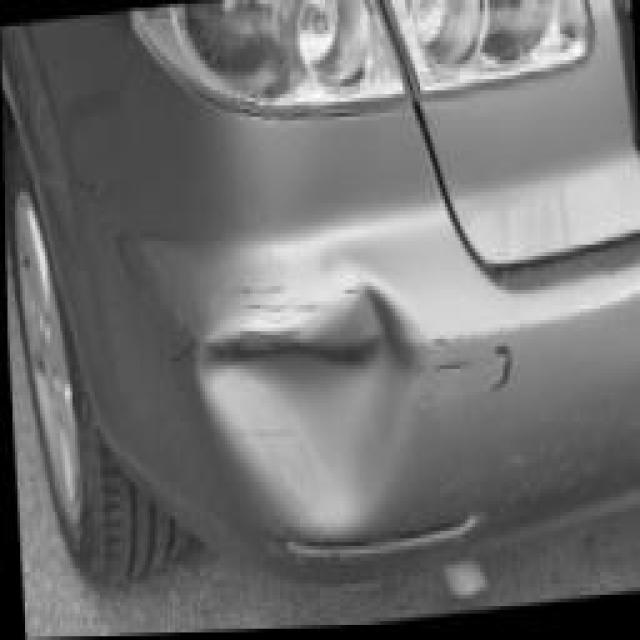Bumper: (98, 114, 559, 591)
